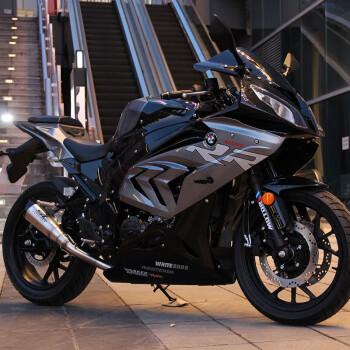摩托车: (1, 48, 350, 327)
